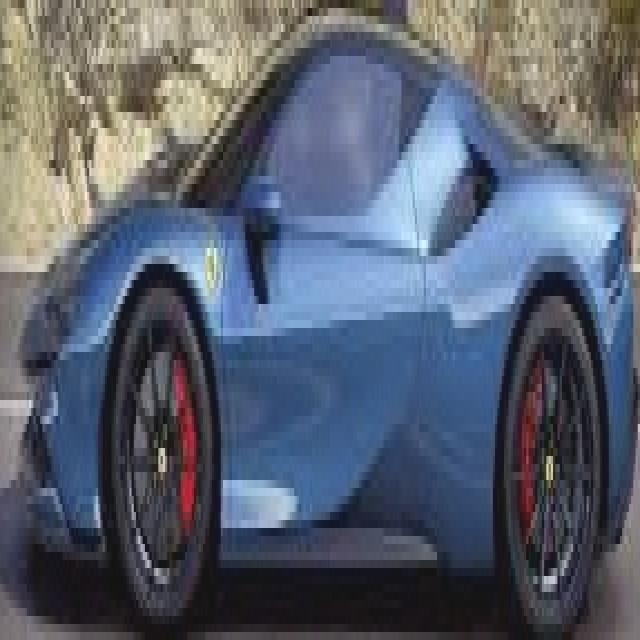blue: (32, 1, 640, 620)
